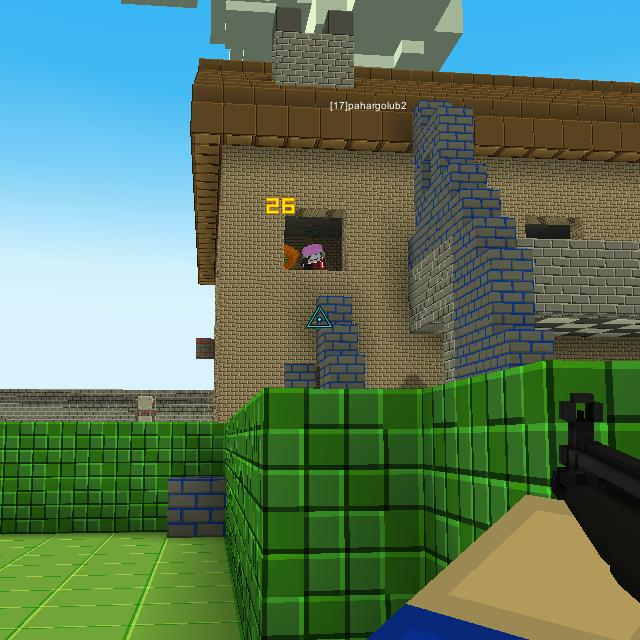enemy: (302, 242, 326, 270)
